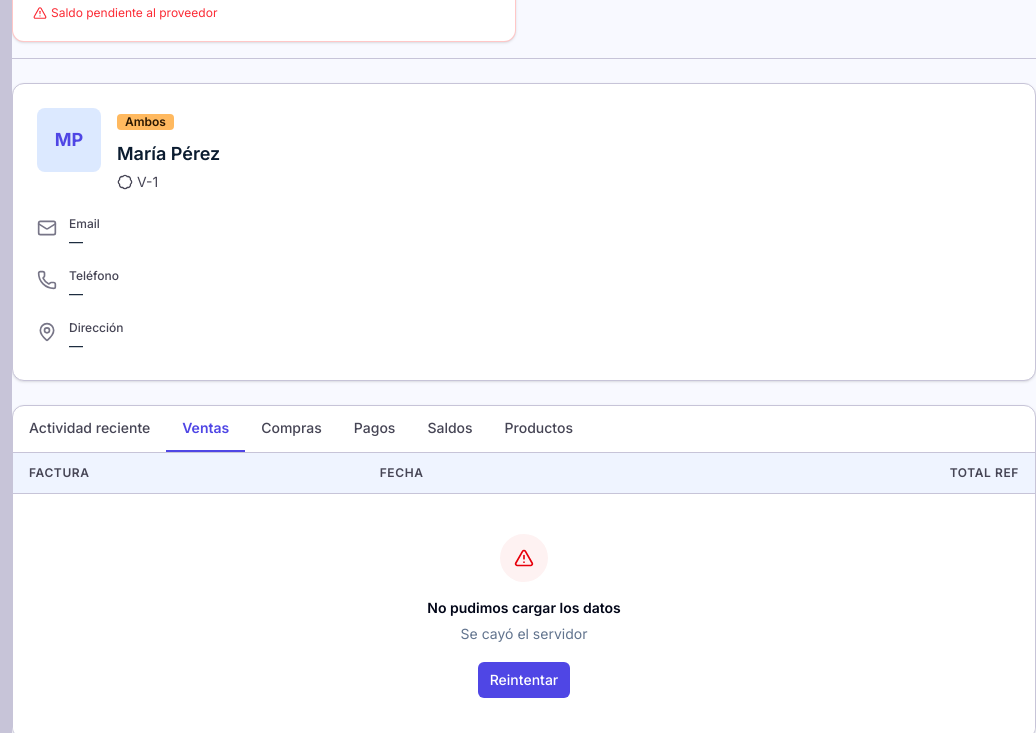
Test: ContactDetailsPage · pestañas, resumen y paginación (DET-04) › estados por pestaña › error: mensaje del servidor con reintento que vuelve a pedir
(page scrolled)
Expected: the text "Se cayó el servidor" is shown, x1=461 y1=622 x2=587 y2=646
Click the button "Reintentar". click: coordinates (524, 680)
box: x1=478 y1=662 x2=570 y2=698
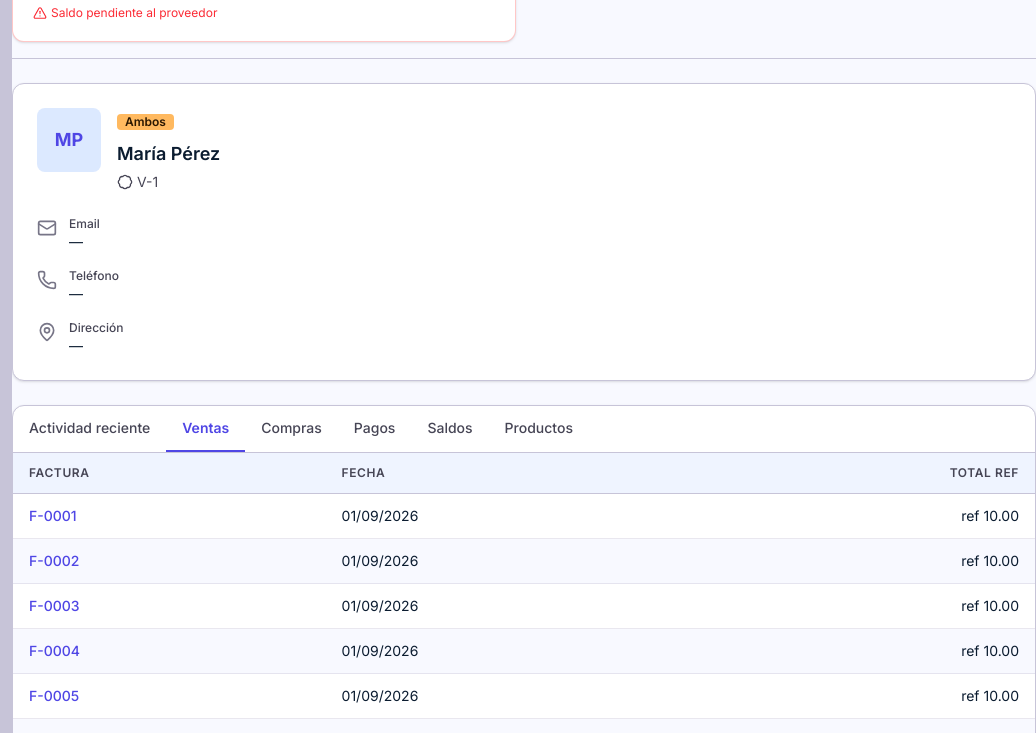
Now the link "F-0001" is shown, box x1=29 y1=507 x2=77 y2=524
